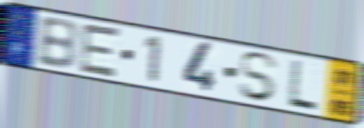1: (142, 35, 163, 85)
4: (181, 39, 221, 97)
B: (35, 16, 80, 72)
E: (77, 21, 124, 80)
L: (285, 57, 320, 113)
S: (237, 50, 281, 104)
